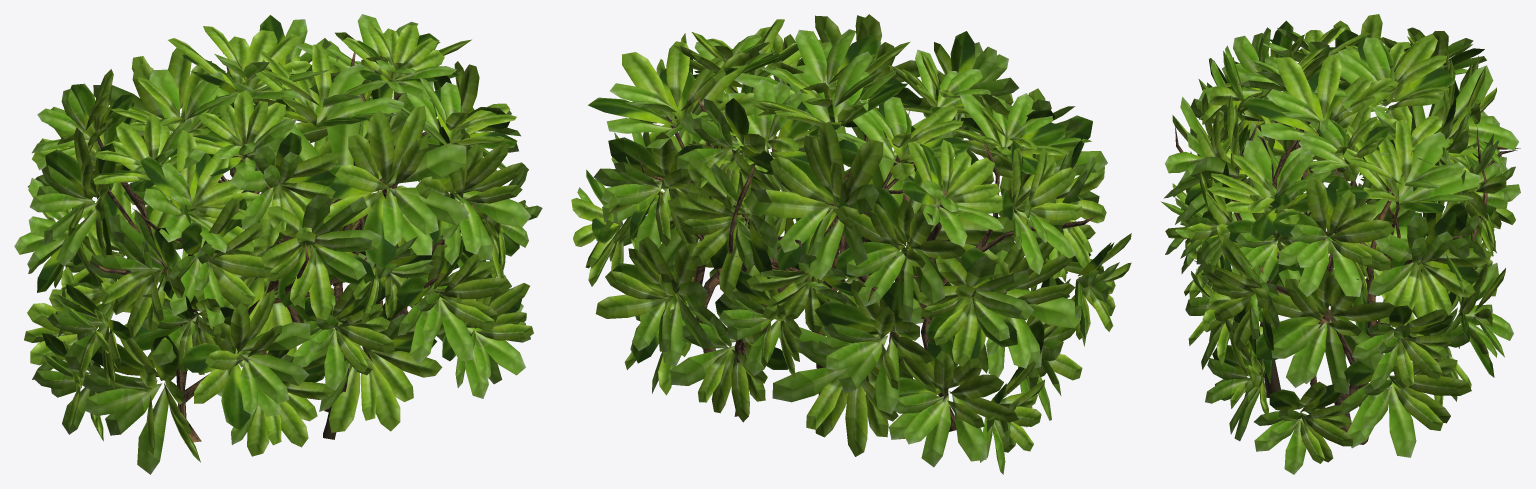
Rendered from hedge.glb.
The picture shows the model from 3 angles, left to right: view 1: azimuth 30°, elevation 25°; view 2: azimuth 150°, elevation 25°; view 3: azimuth 270°, elevation 25°; orthographic projection. The views are drawn at different scales.
Visible parts, largest first — view 1: Object_3, Object_2; view 2: Object_3, Object_2; view 3: Object_3, Object_2.
Boxes of the visible parts, x1,y1,x2,y2 form: Object_3: [14, 14, 542, 474]; Object_2: [89, 52, 473, 442]; Object_3: [571, 14, 1131, 474]; Object_2: [614, 81, 1097, 431]; Object_3: [1161, 14, 1520, 474]; Object_2: [1175, 90, 1520, 444].
Size of the model in its own units: 151 by 106 by 105.
2 materials, 2 textured.
